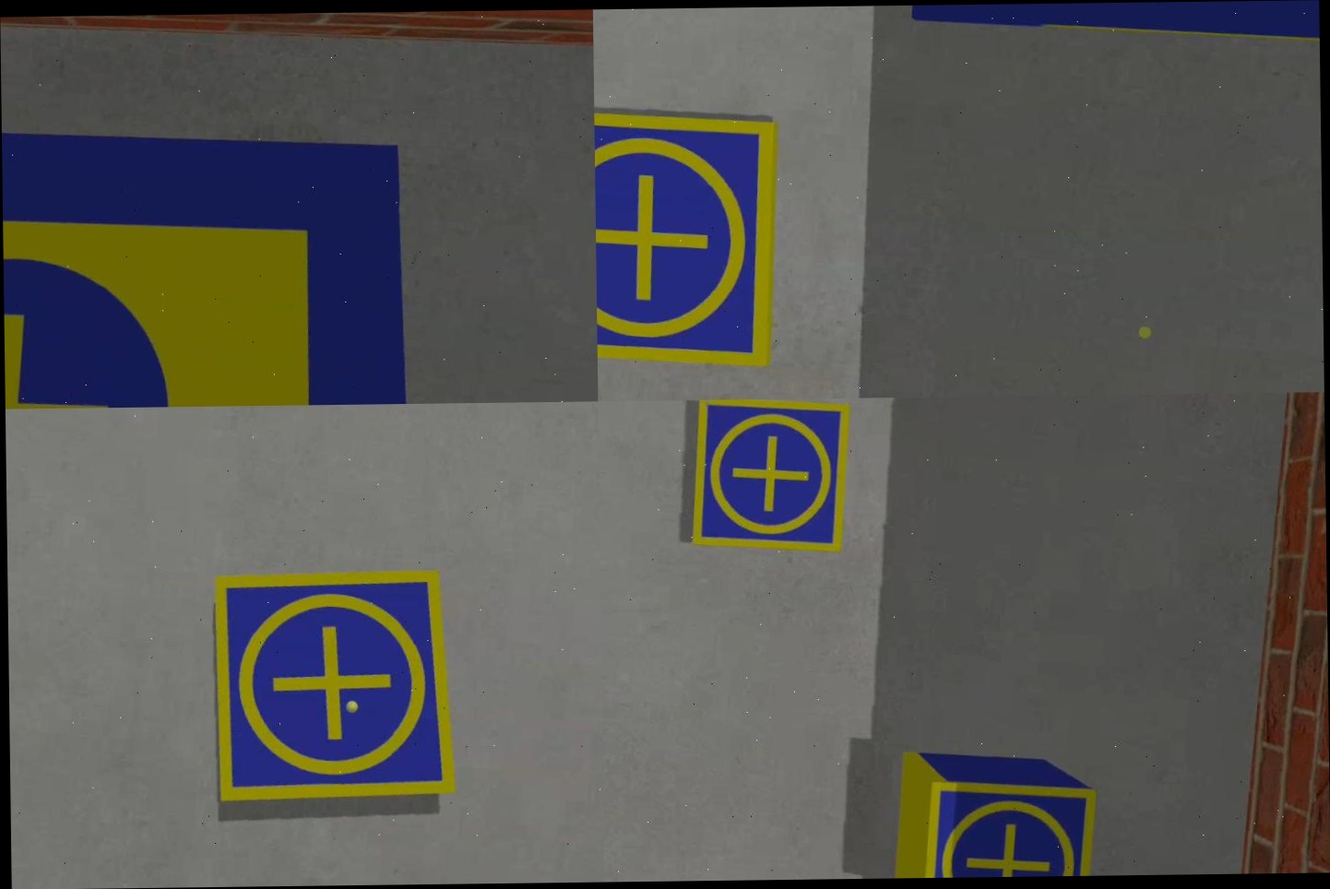large_base: (1, 75, 440, 409)
small_base: (194, 551, 481, 829), (594, 93, 788, 375), (684, 398, 857, 556), (912, 773, 1097, 877)
